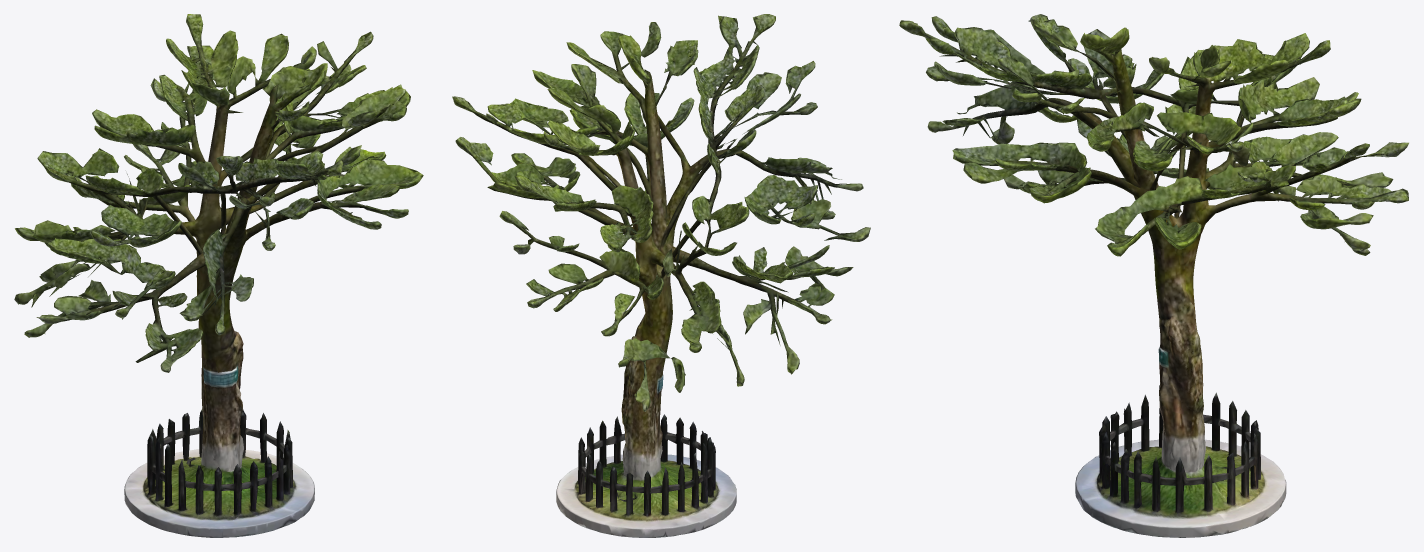
File: preview.343e015c347e.glb
The picture shows the model from 3 angles, left to right: view 1: azimuth 30°, elevation 25°; view 2: azimuth 150°, elevation 25°; view 3: azimuth 270°, elevation 25°; orthographic projection. The views are drawn at different scales.
Visible parts, largest first — view 1: tripo_node_06da63a6-5e21-4cff-bdf0-0e184b79e63e; view 2: tripo_node_06da63a6-5e21-4cff-bdf0-0e184b79e63e; view 3: tripo_node_06da63a6-5e21-4cff-bdf0-0e184b79e63e.
Part boxes in pixels (x1=…): tripo_node_06da63a6-5e21-4cff-bdf0-0e184b79e63e: x1=14, y1=14, x2=423, y2=537; tripo_node_06da63a6-5e21-4cff-bdf0-0e184b79e63e: x1=452, y1=14, x2=870, y2=537; tripo_node_06da63a6-5e21-4cff-bdf0-0e184b79e63e: x1=899, y1=14, x2=1408, y2=537.
Bounding box in the file's own units: 0.8459 × 0.9795 × 0.9136.
Materials: 1 (1 with a texture image).
